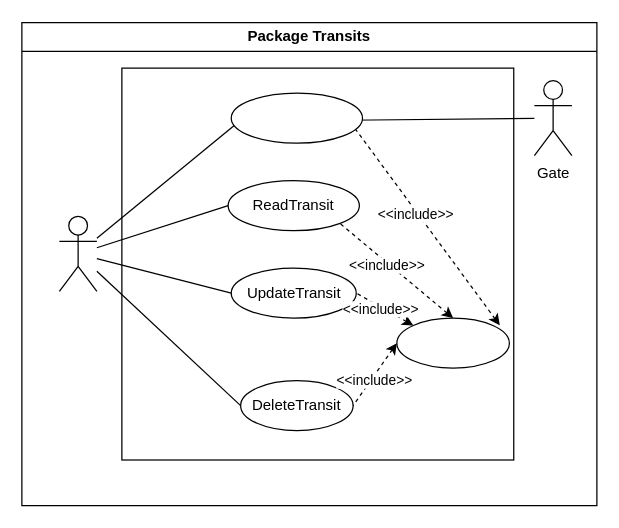
Some shapes in this 619 by 528 pixel diagram are drawn without their labels. Here are the shapes that lost their labels. From the top down, the centre of each, then its label:
point (296, 117): CreateTransit
point (77, 253): Operator
point (452, 342): FindTransit
